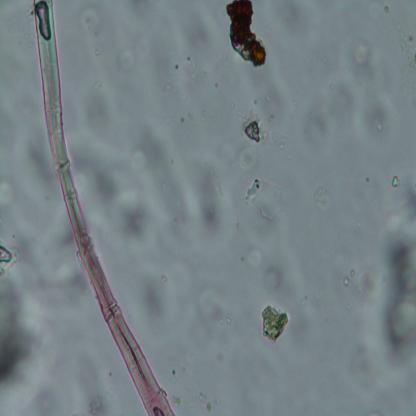Background material: (70, 74, 158, 232), (10, 219, 84, 310), (378, 196, 416, 367), (176, 150, 232, 238), (295, 75, 356, 152), (234, 214, 286, 300), (0, 270, 39, 379), (181, 290, 238, 350), (126, 262, 168, 339), (224, 0, 268, 66), (177, 18, 213, 86), (20, 126, 55, 193), (340, 27, 381, 83), (350, 95, 398, 142), (344, 343, 380, 394), (258, 90, 287, 146), (245, 178, 285, 218), (116, 0, 161, 34), (258, 300, 290, 346), (334, 268, 369, 309), (106, 43, 143, 74), (69, 4, 98, 38), (396, 23, 416, 70), (232, 144, 262, 174), (240, 108, 264, 142), (198, 388, 228, 415), (0, 238, 21, 271), (0, 174, 17, 214), (308, 180, 327, 206), (391, 171, 401, 190), (384, 3, 392, 20)
Cotton: (32, 1, 178, 415)
